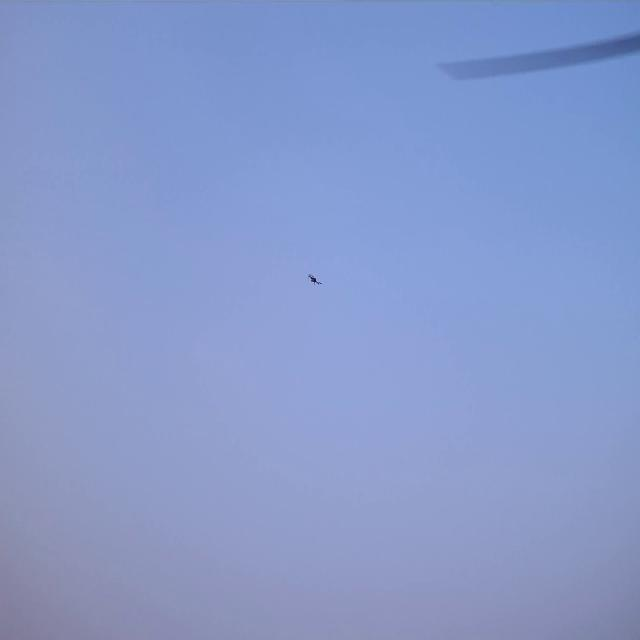UAV: (308, 274, 320, 284)
